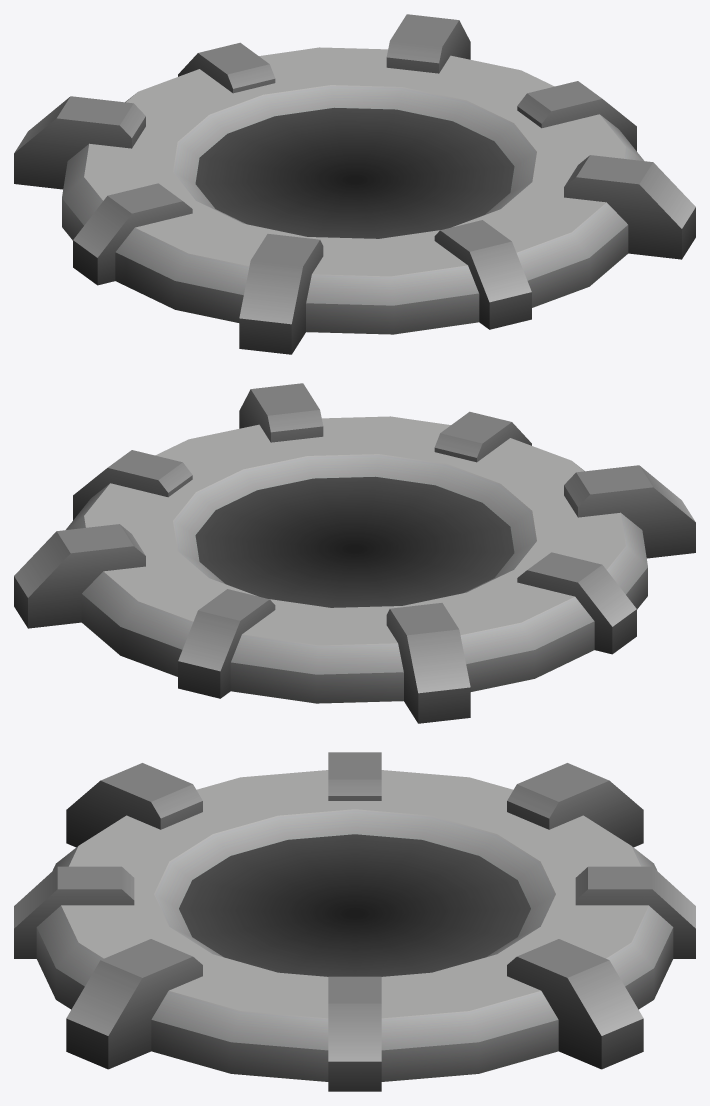
The model's file is Spawn_point.fbx.
The picture shows the model from 3 angles, top to bottom: view 1: azimuth 30°, elevation 25°; view 2: azimuth 150°, elevation 25°; view 3: azimuth 270°, elevation 25°; orthographic projection. The views are drawn at different scales.
Visible parts, largest first — view 1: swan_point; view 2: swan_point; view 3: swan_point.
Boxes of the visible parts, box(x1,y1,x2,y2) form: swan_point: box(14, 14, 695, 354); swan_point: box(14, 383, 695, 723); swan_point: box(14, 752, 695, 1091).
Bounding box in the file's own units: 211 × 26.29 × 211.
